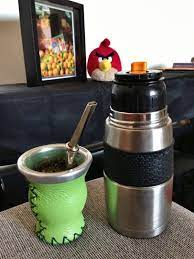mate: (17, 142, 92, 246)
